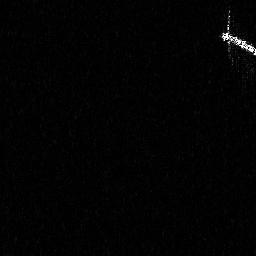ship: (221, 8, 256, 69)
